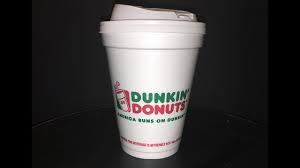dunkin donuts: (95, 3, 214, 160)
